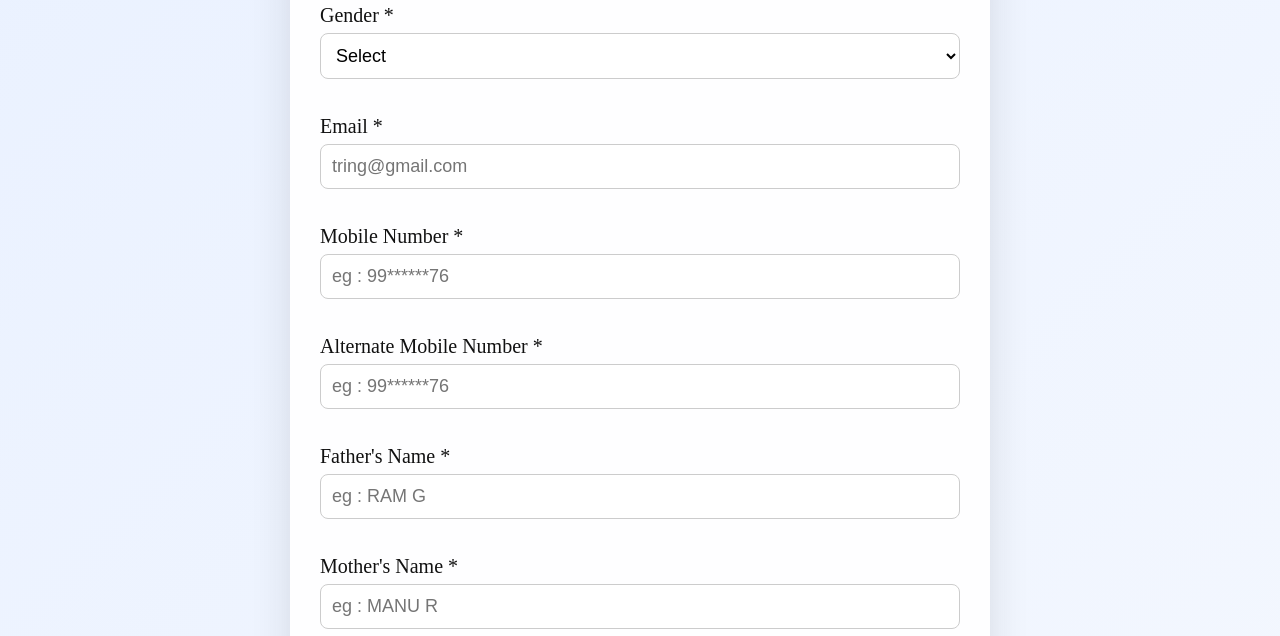
OnBoard Registration App › shows an error when both mobile numbers are identical
The image size is (1280, 636).
(page scrolled)
Type "9876543210" into the 1st field with placeholder "eg : 99******76" at [640, 277], box 320,254 -> 960,299
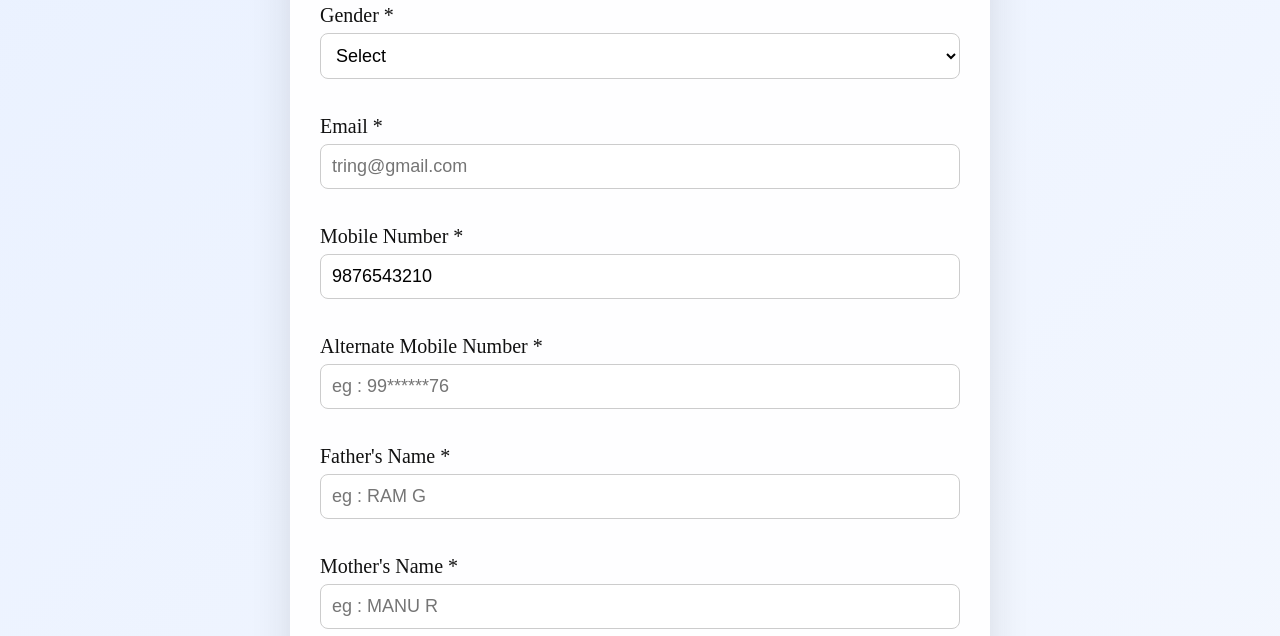
Type "9876543210" into the field with placeholder "eg : 99******76" at [640, 387], box 320,364 -> 960,409
(page scrolled)
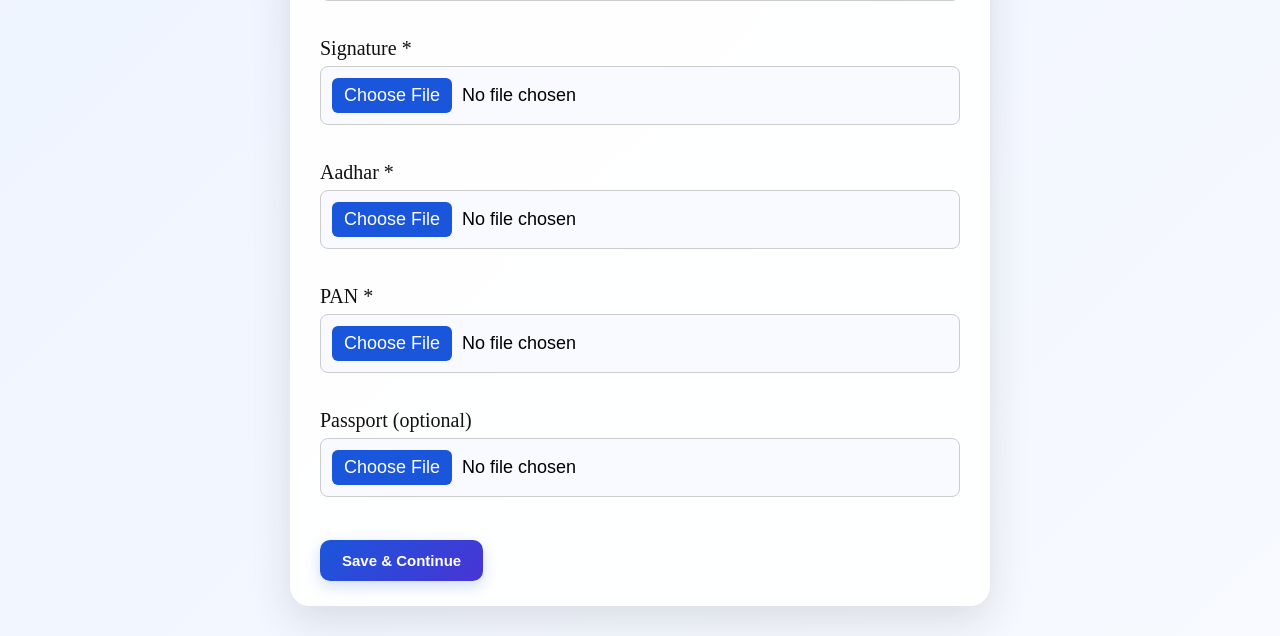
Click the button "Save & Continue" at [402, 560], box 320,540 -> 483,580
(page scrolled)
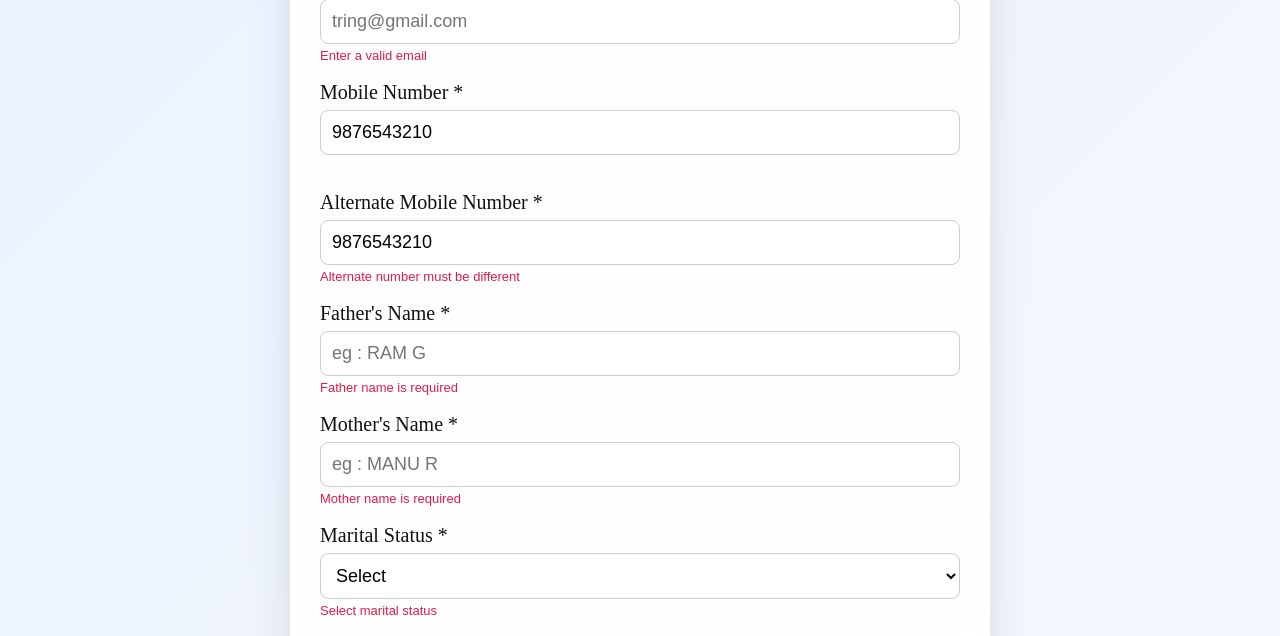
Now the text "Alternate number must be different" is shown, box 320,269 -> 520,284
